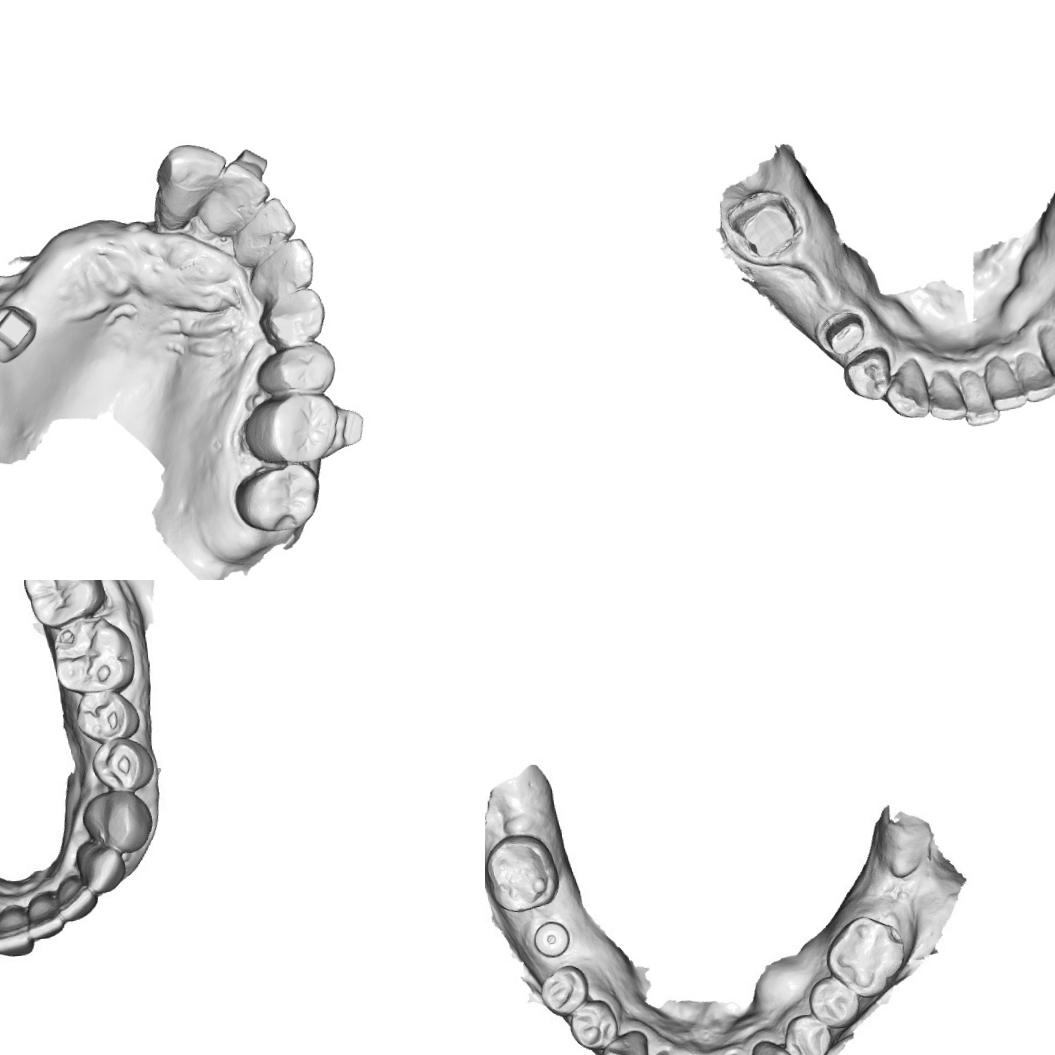canine: (151, 137, 231, 214), (79, 786, 155, 856), (252, 284, 329, 353), (878, 354, 932, 422), (1033, 318, 1055, 383), (599, 1029, 653, 1055), (747, 1037, 795, 1055)
crown: (723, 187, 805, 264), (816, 308, 869, 358)
implant: (527, 912, 575, 961)
incisor: (197, 157, 274, 234), (242, 234, 318, 304), (236, 193, 300, 259), (980, 352, 1032, 414), (73, 837, 127, 895), (919, 365, 971, 424), (956, 364, 1001, 430), (1010, 345, 1055, 404), (55, 873, 100, 922), (24, 891, 65, 940), (0, 902, 34, 959)
molar: (240, 388, 345, 470), (821, 910, 911, 1002), (230, 458, 324, 537), (50, 612, 138, 696), (485, 828, 558, 916), (19, 580, 107, 630)
premolar: (251, 338, 340, 402), (88, 734, 155, 794), (73, 686, 142, 744), (838, 344, 896, 406), (805, 972, 862, 1030), (566, 996, 620, 1050), (536, 962, 587, 1015), (780, 1009, 832, 1055)
